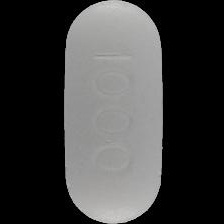42291-586: (0, 0, 224, 224)
